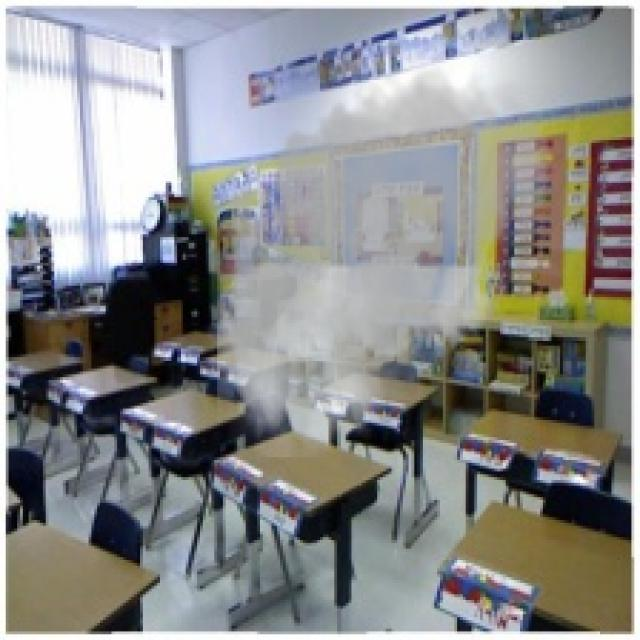smoke: (203, 52, 557, 457)
